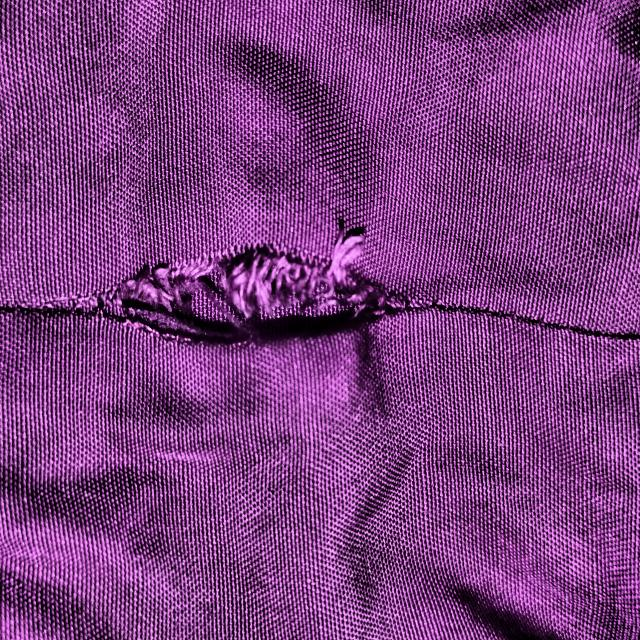seam: (75, 207, 488, 423)
